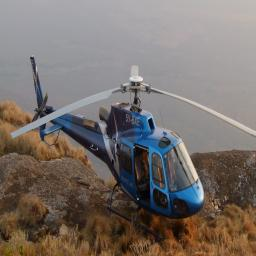helicopter: (10, 53, 255, 247)
